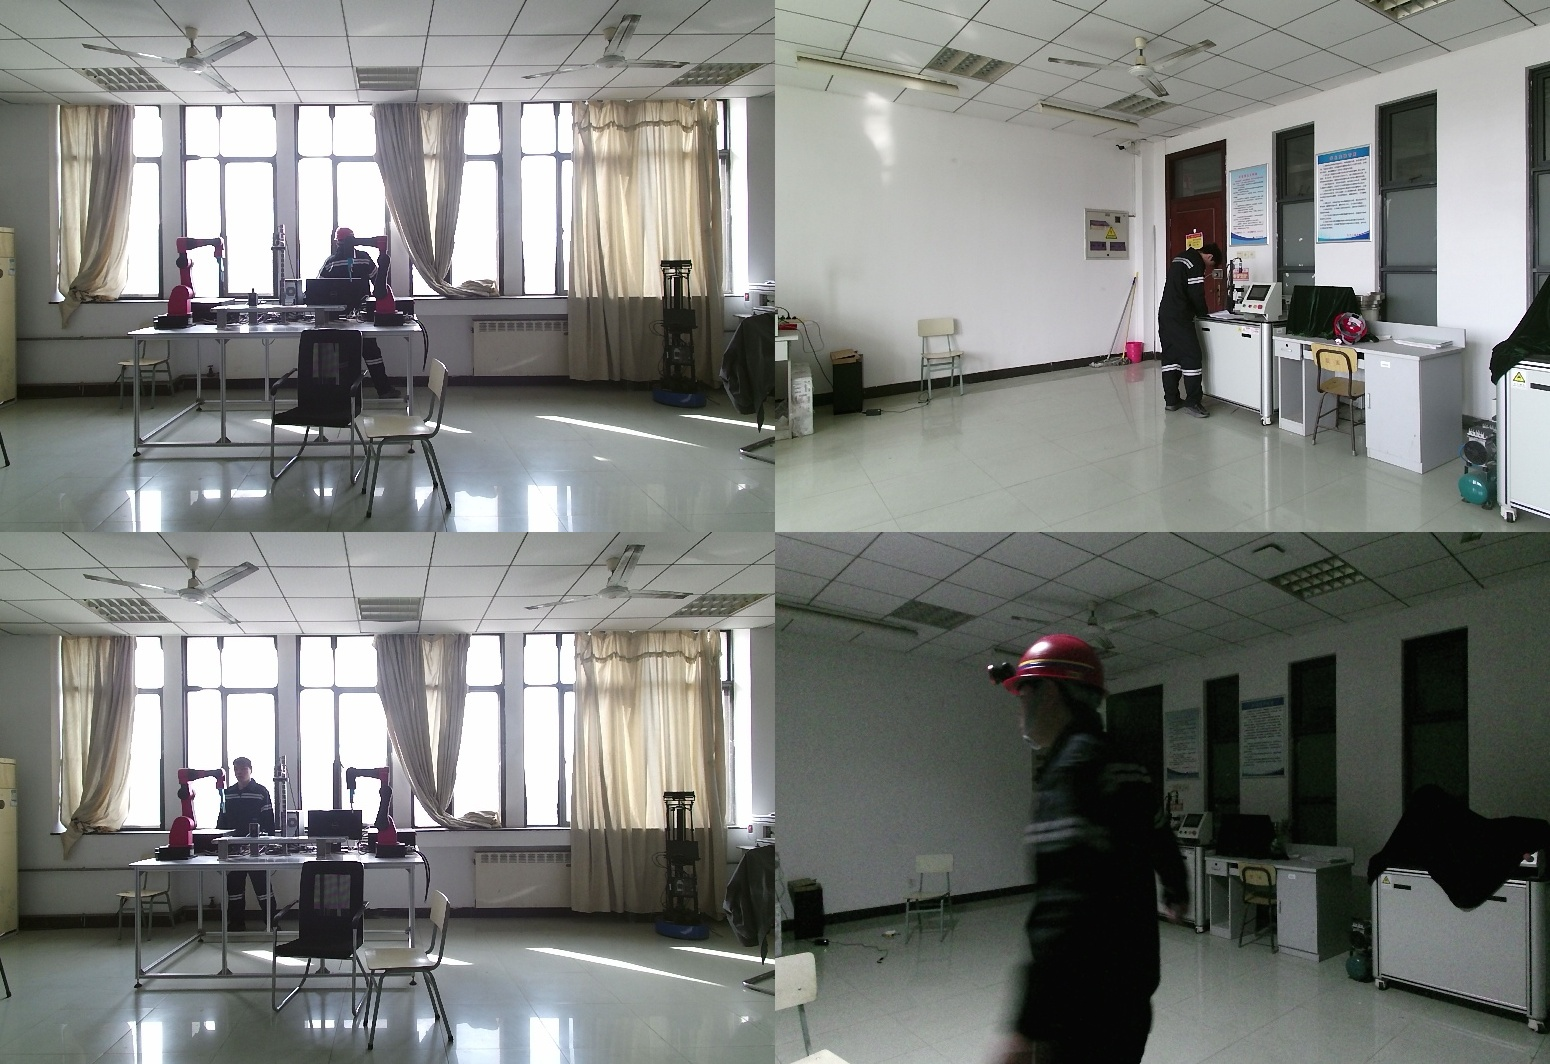person: (991, 633, 1219, 1064), (314, 229, 395, 402), (216, 760, 280, 932), (1159, 245, 1219, 417)
